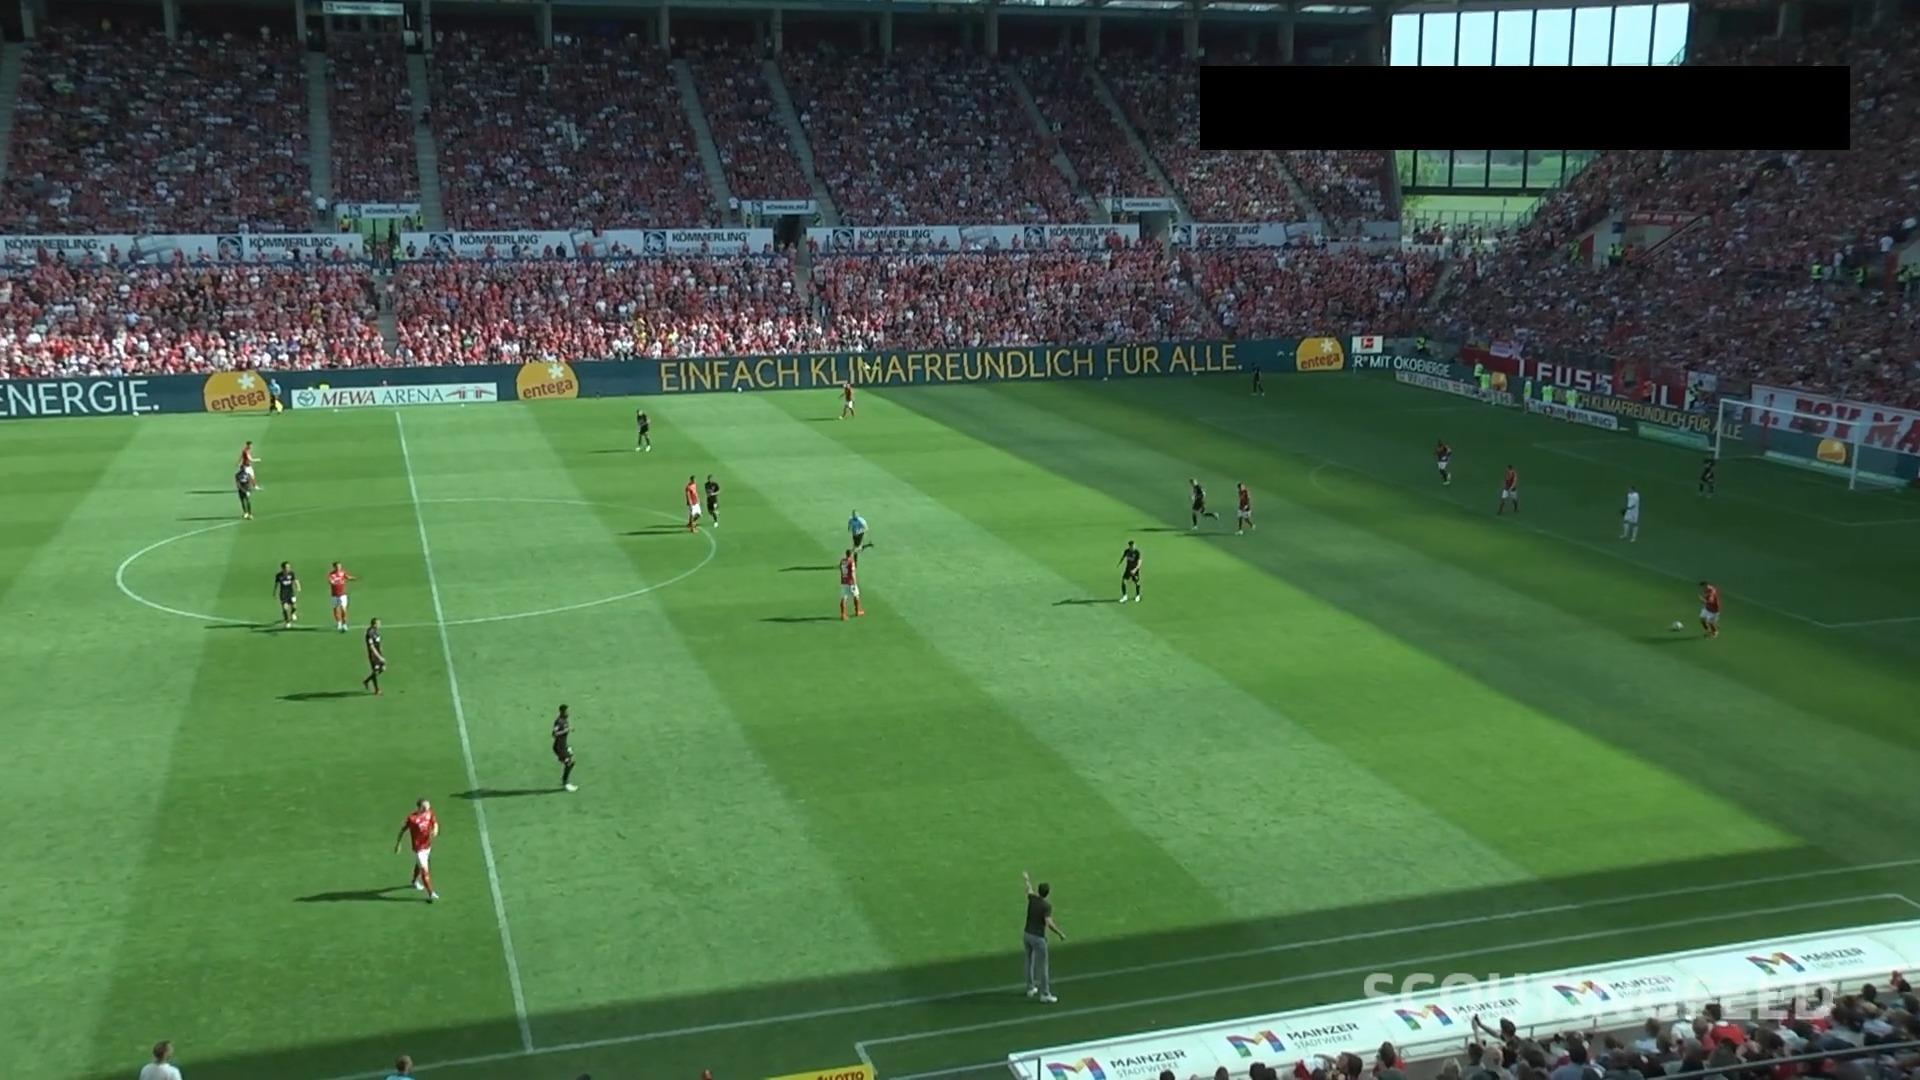ball: (1671, 621, 1684, 632)
